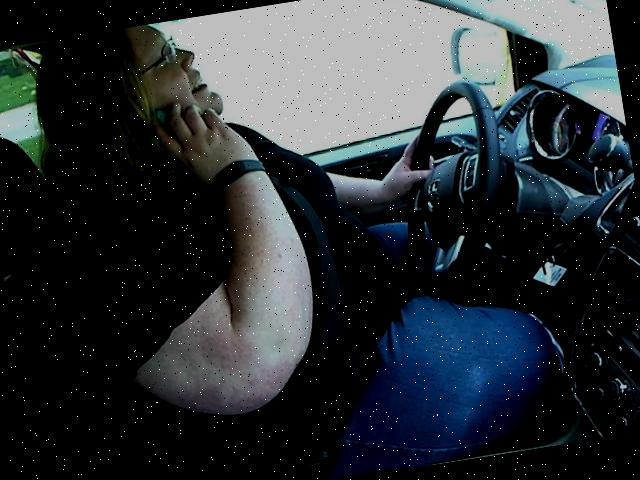c2 - Talking on the phone: (18, 0, 541, 441)
